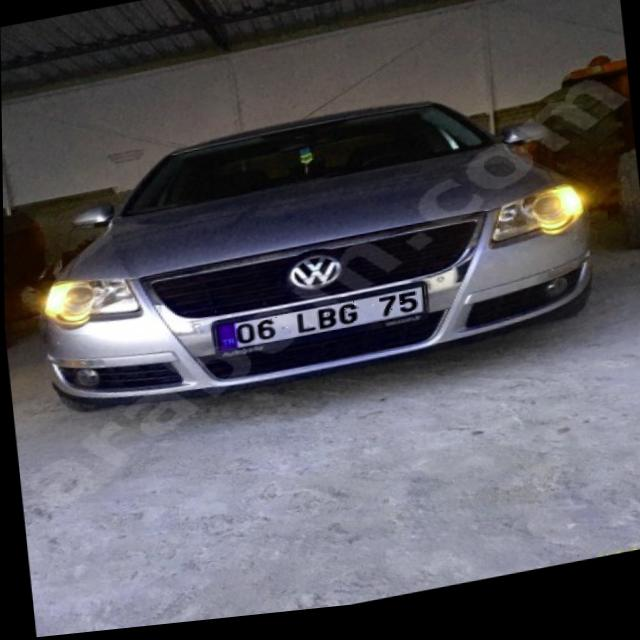license_plate: (212, 294, 425, 355)
